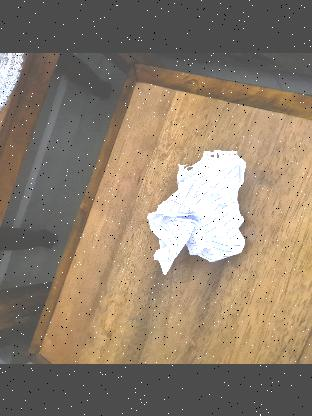Others: (147, 146, 247, 270)
